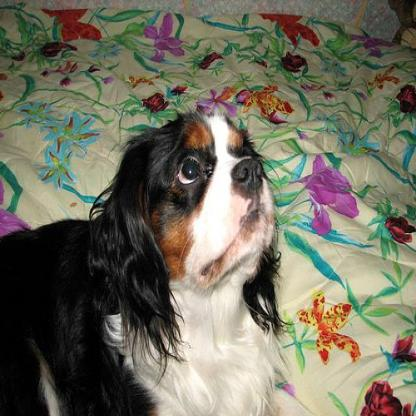dog: (0, 110, 285, 414)
